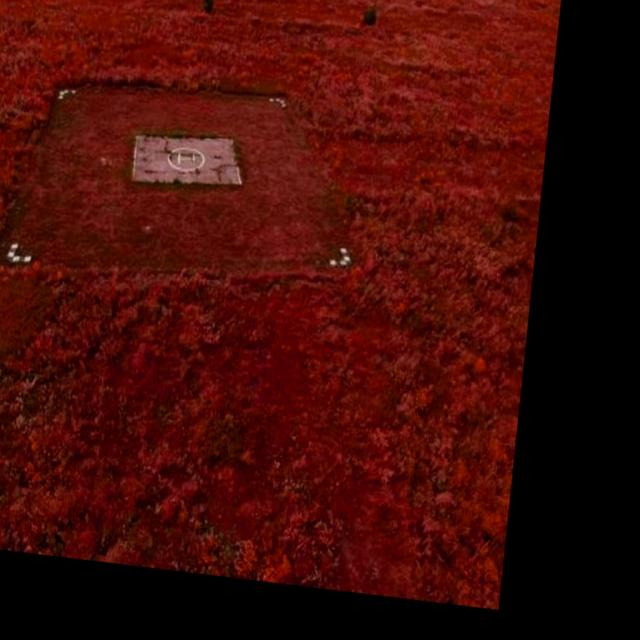helipad: (162, 142, 208, 173)
